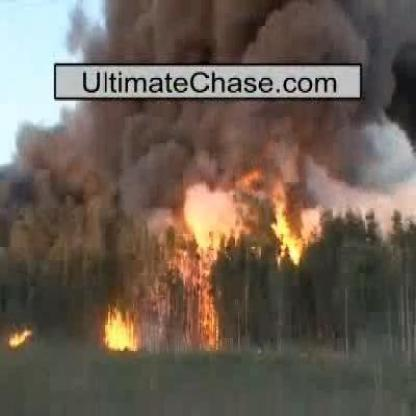-: (41, 108, 404, 181), (66, 4, 374, 64)
foggia-v2-map80-epoch100 - v1 4323: (102, 316, 136, 349)
